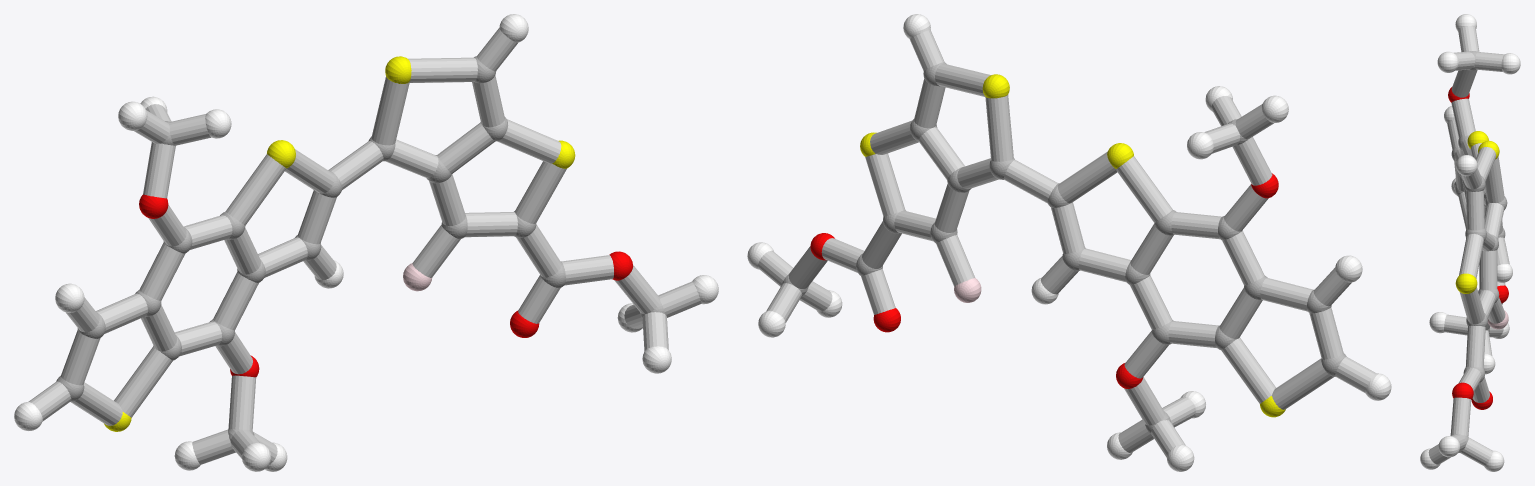
Rendered from color.glb.
3 views of the same model, side by side, from view 1: azimuth 30°, elevation 25°; view 2: azimuth 150°, elevation 25°; view 3: azimuth 270°, elevation 25° (orthographic). The views are drawn at different scales.
Parts seen in each view (by area): view 1: grp15205, grp8689, grp1, grp7241, grp13395; view 2: grp15205, grp8689, grp1, grp13395, grp7241; view 3: grp15205, grp8689, grp1, grp7241, grp13395, grp14843.
Part boxes in pixels (x1,y1,x2,y2): grp15205: (28,28,701,464); grp8689: (14,14,718,471); grp1: (56,56,665,441); grp7241: (104,56,575,431); grp13395: (139,194,633,377); grp15205: (758,30,1376,457); grp8689: (747,14,1391,471); grp1: (782,62,1346,434); grp13395: (810,173,1278,388); grp7241: (860,74,1285,417); grp15205: (1428,26,1509,466); grp8689: (1420,14,1520,471); grp1: (1450,51,1507,452); grp7241: (1455,131,1499,293); grp13395: (1448,87,1508,409); grp14843: (1488,310,1508,329).
Bounding box in the file's own units: 16.29 × 9.31 × 2.79.
